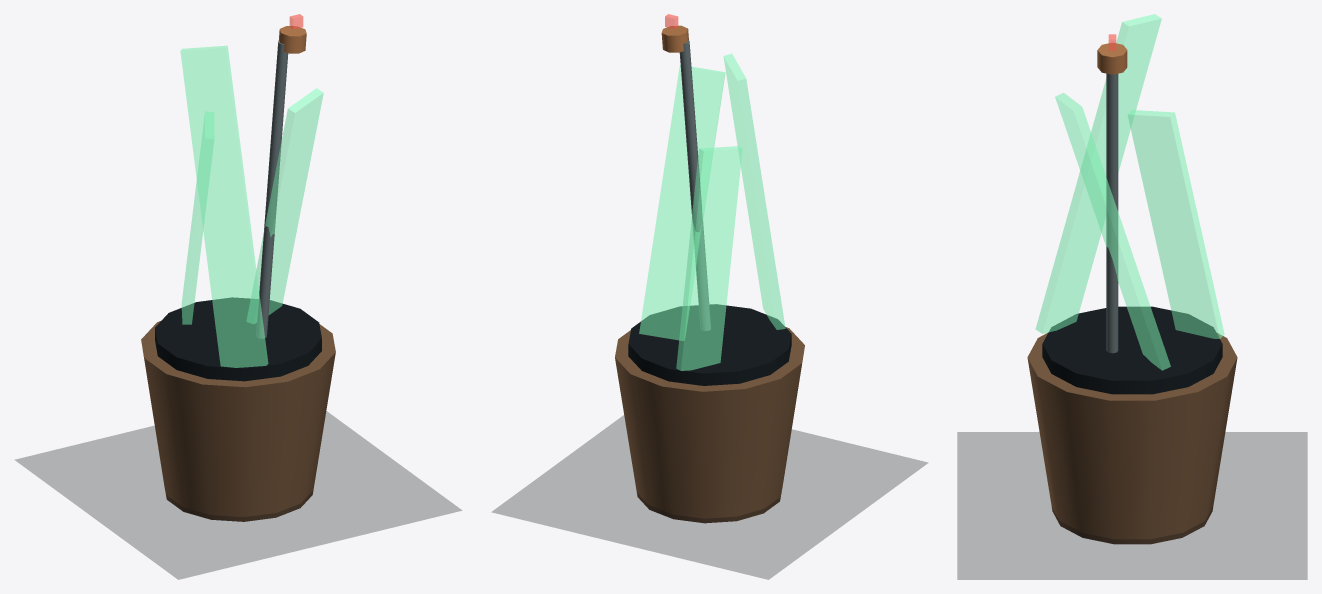
The model's file is hp_room_cyber_sensor_plant.glb.
3 views of the same model, side by side, from view 1: azimuth 30°, elevation 25°; view 2: azimuth 150°, elevation 25°; view 3: azimuth 270°, elevation 25° (orthographic). The views are drawn at different scales.
Visible parts, largest first — view 1: contact_shadow, pot, leaf_2.4, soil, leaf_0.4, antenna_stake, leaf_4.2, antenna_tip; view 2: contact_shadow, pot, leaf_0.4, soil, leaf_4.2, leaf_2.4, antenna_stake, antenna_tip; view 3: contact_shadow, pot, soil, leaf_4.2, leaf_2.4, leaf_0.4, antenna_stake, antenna_tip.
Boxes of the visible parts, x1,y1,x2,y2 form: contact_shadow: [15, 411, 461, 579]; pot: [141, 321, 335, 521]; leaf_2.4: [180, 45, 268, 367]; soil: [155, 297, 321, 381]; leaf_0.4: [246, 88, 323, 323]; antenna_stake: [256, 41, 288, 338]; leaf_4.2: [181, 111, 214, 324]; antenna_tip: [278, 26, 306, 53]; contact_shadow: [492, 415, 927, 579]; pot: [615, 327, 804, 523]; leaf_0.4: [639, 65, 725, 340]; soil: [628, 304, 791, 385]; leaf_4.2: [676, 146, 742, 370]; leaf_2.4: [723, 53, 785, 329]; antenna_stake: [679, 40, 710, 330]; antenna_tip: [661, 25, 688, 52]; contact_shadow: [957, 432, 1307, 579]; pot: [1027, 332, 1237, 544]; soil: [1042, 306, 1222, 394]; leaf_4.2: [1127, 110, 1224, 338]; leaf_2.4: [1035, 14, 1161, 333]; leaf_0.4: [1055, 93, 1170, 370]; antenna_stake: [1106, 73, 1118, 353]; antenna_tip: [1097, 43, 1127, 74].
Bounding box in the file's own units: 0.7 × 1.1 × 0.7.
